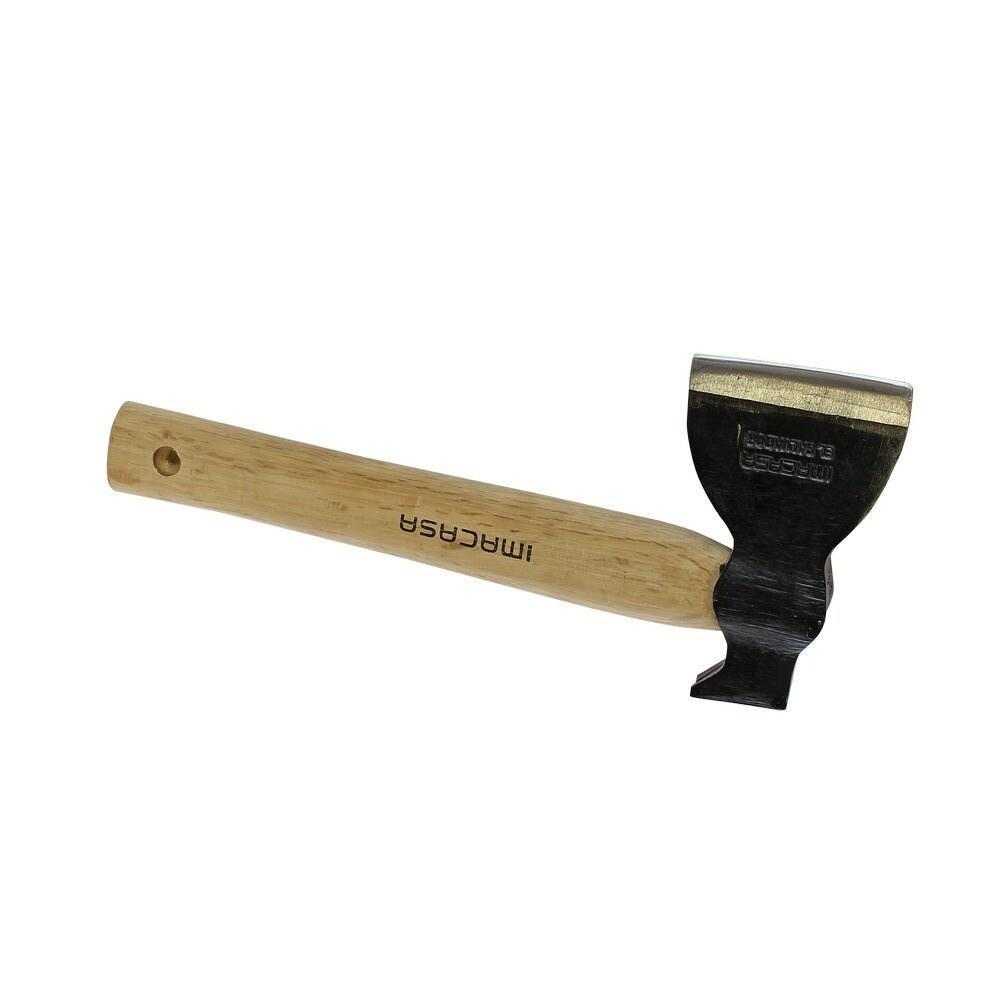machado: (107, 357, 911, 709)
